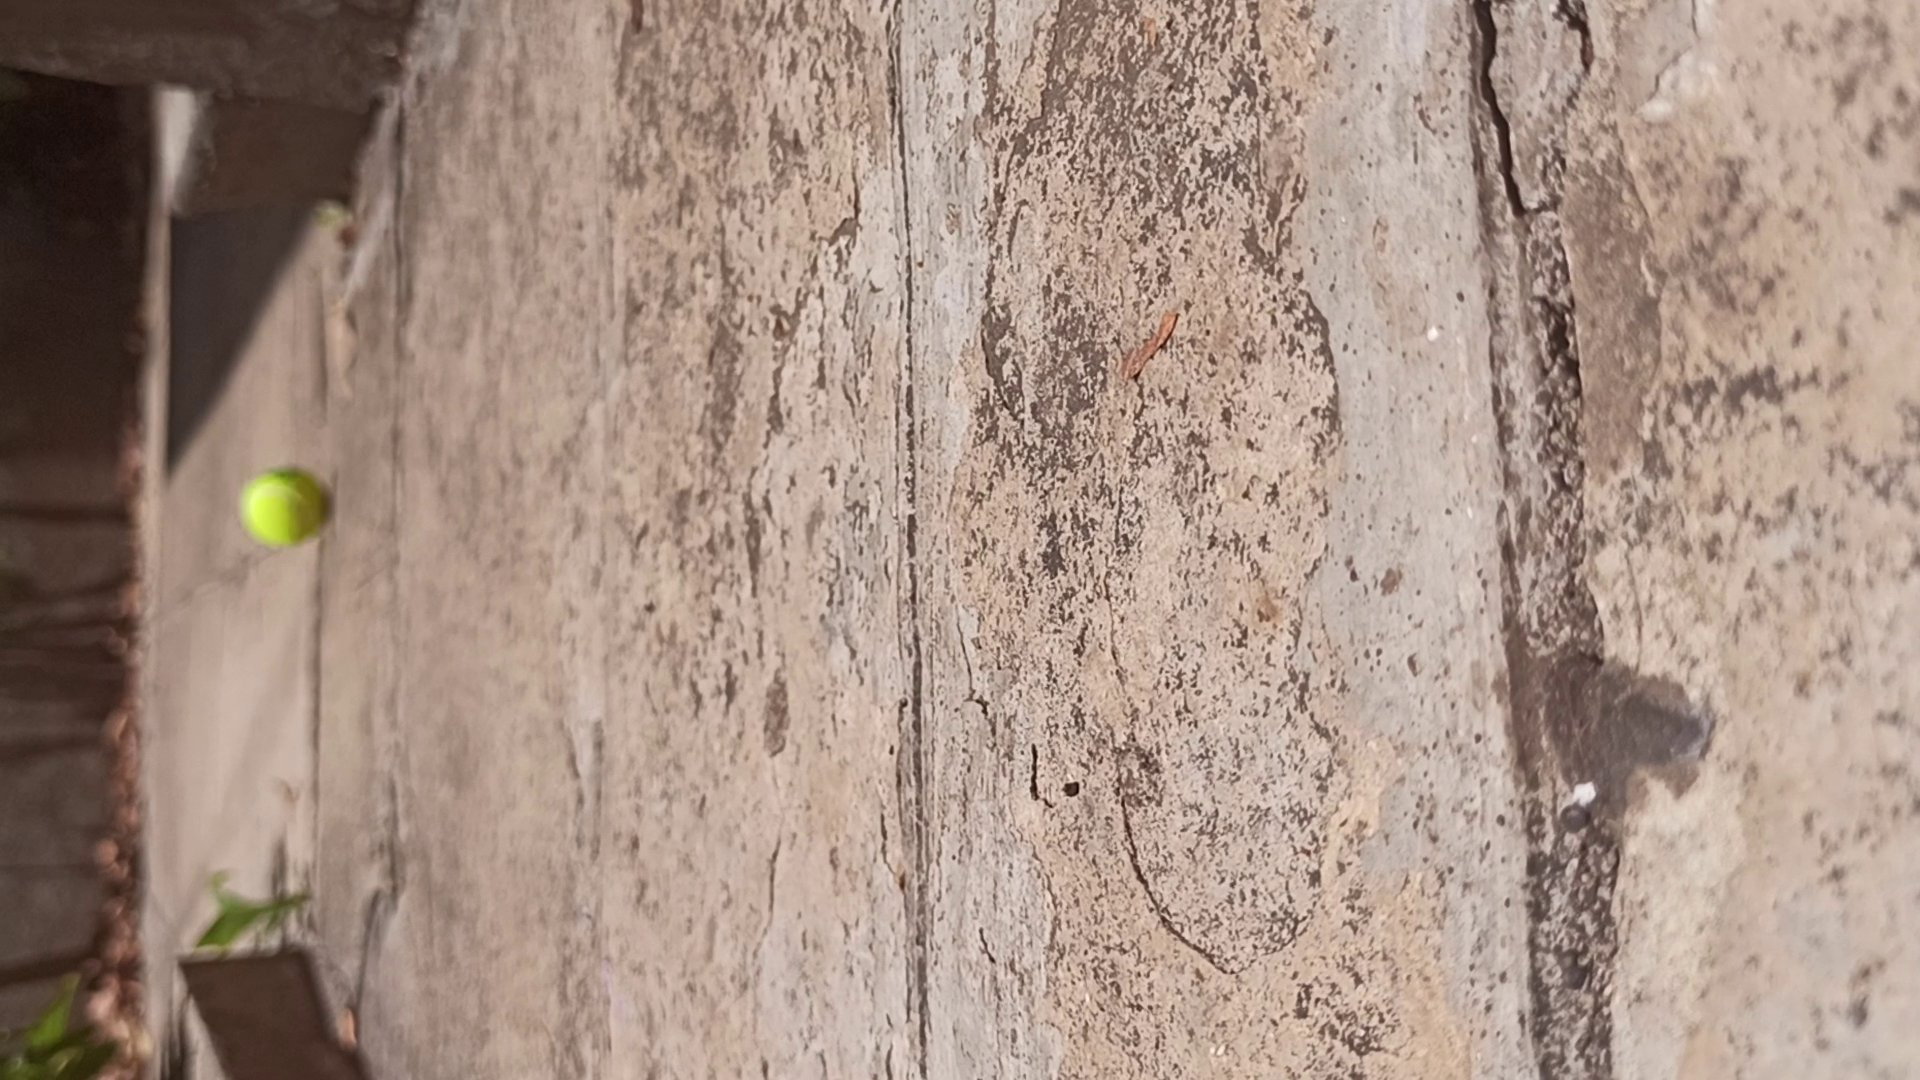Tennis-Ball: (240, 471, 324, 547)
